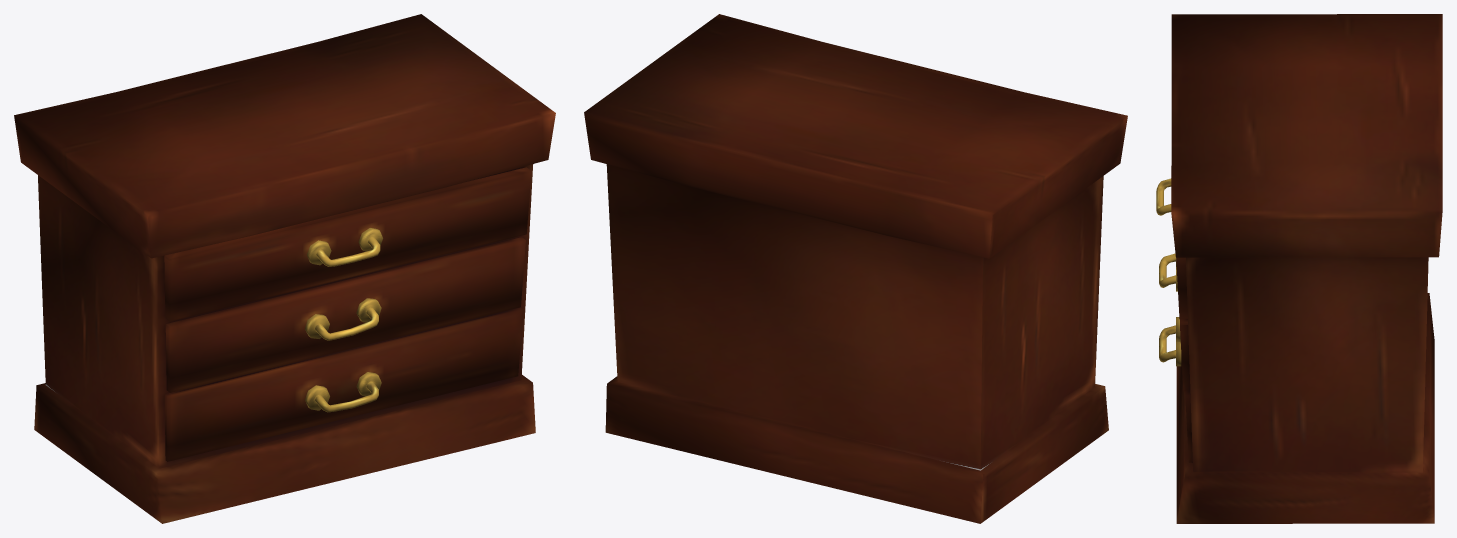
Rendered from Drawer1.fbx.
3 views of the same model, side by side, from view 1: azimuth 30°, elevation 25°; view 2: azimuth 150°, elevation 25°; view 3: azimuth 270°, elevation 25° (orthographic).
Visible parts, largest first — view 1: Drawer MODULO 03 (×2); view 2: Drawer MODULO 03; view 3: Drawer MODULO 03 (×2).
Part boxes in pixels (box(x1,y1,x2,y2)): Drawer MODULO 03 (×2): box(14, 14, 555, 523); Drawer MODULO 03: box(584, 14, 1127, 523); Drawer MODULO 03 (×2): box(1156, 14, 1442, 523).
Size of the model in its own units: 455 by 339 by 275.
